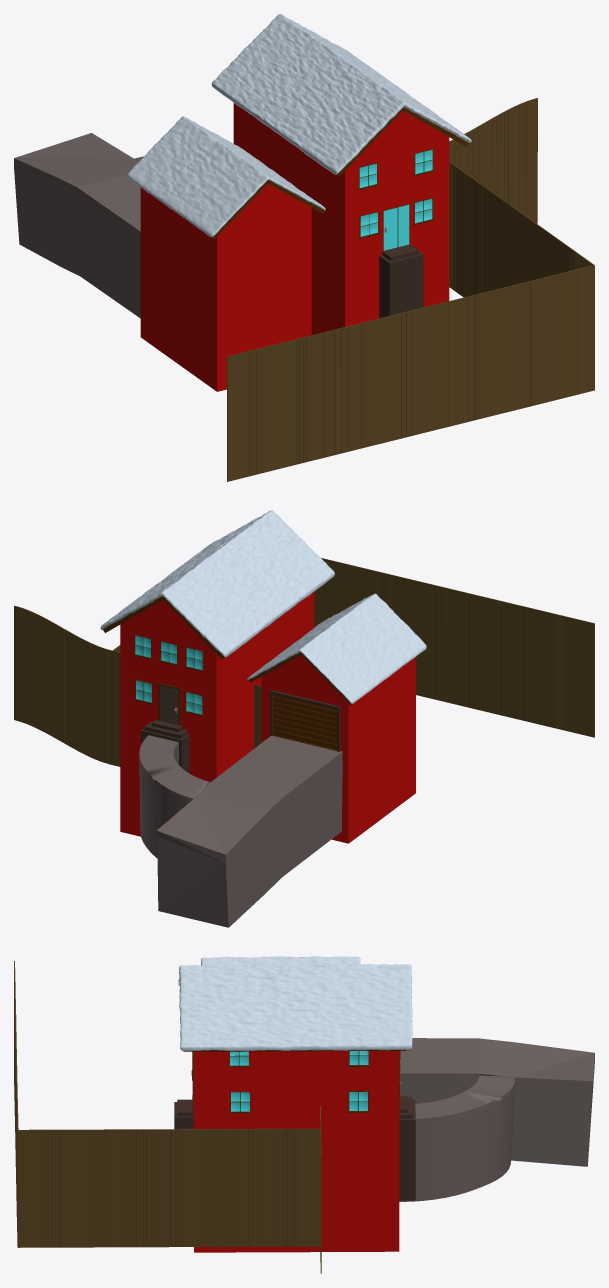
File: newkidshouse_compressed.glb
3 renders of one model, top to bottom at view 1: azimuth 30°, elevation 25°; view 2: azimuth 150°, elevation 25°; view 3: azimuth 270°, elevation 25°, orthographic. The views are drawn at different scales.
Parts seen in each view (by area): view 1: Cube.814, Cube.813, Cube.827, Cube.808, Cube.809, Cube.810; view 2: Cube.814, Cube.813, Cube.808, Cube.827, Cube.809, Cube.810, Cube.823; view 3: Cube.814, Cube.813, Cube.808, Cube.827, Cube.810, Cube.809.
Part boxes in pixels (x1=…): Cube.814: x1=227, y1=98, x2=594, y2=481; Cube.813: x1=140, y1=103, x2=449, y2=391; Cube.827: x1=127, y1=14, x2=471, y2=237; Cube.808: x1=14, y1=133, x2=143, y2=318; Cube.809: x1=211, y1=107, x2=468, y2=251; Cube.810: x1=379, y1=244, x2=423, y2=318; Cube.814: x1=14, y1=558, x2=594, y2=766; Cube.813: x1=120, y1=592, x2=415, y2=843; Cube.808: x1=139, y1=735, x2=342, y2=927; Cube.827: x1=100, y1=510, x2=426, y2=703; Cube.809: x1=103, y1=596, x2=351, y2=750; Cube.810: x1=141, y1=690, x2=340, y2=773; Cube.823: x1=160, y1=685, x2=178, y2=724; Cube.814: x1=14, y1=961, x2=321, y2=1273; Cube.813: x1=193, y1=1050, x2=399, y2=1252; Cube.808: x1=399, y1=1038, x2=594, y2=1201; Cube.827: x1=178, y1=956, x2=412, y2=1050; Cube.810: x1=174, y1=1096, x2=415, y2=1200; Cube.809: x1=183, y1=1050, x2=410, y2=1113.
Size of the model in its own units: 5.28 by 2.99 by 5.97.
